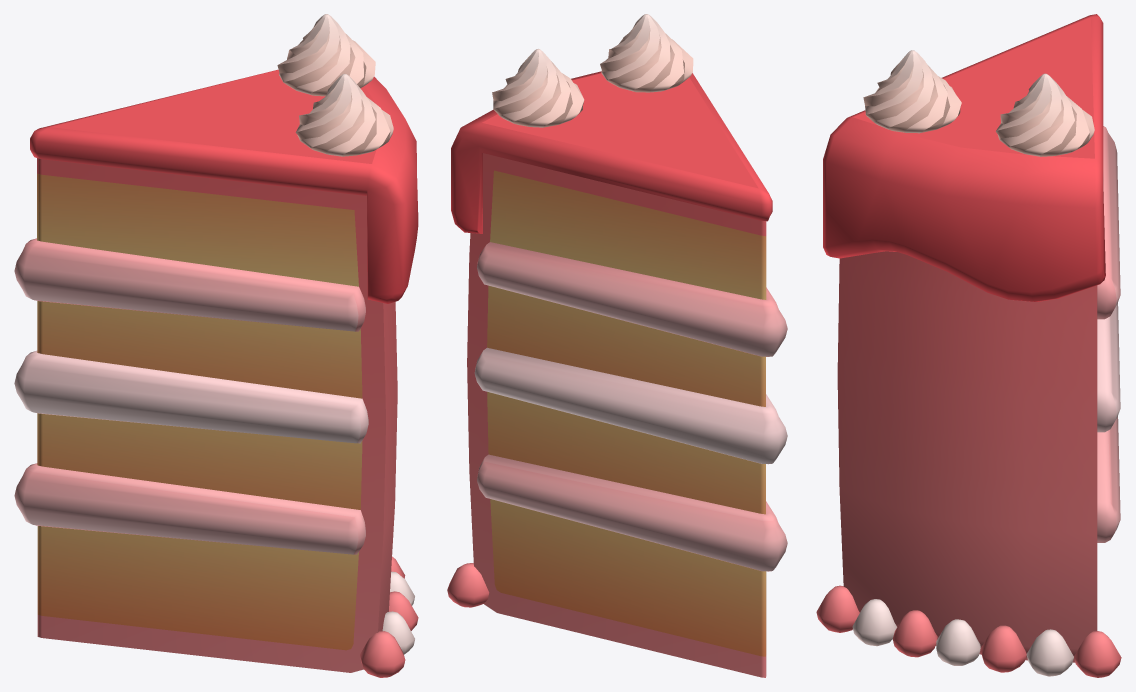
File: Cake_Strawberry_Slice_V2_01.fbx
3 renders of one model, left to right at view 1: azimuth 30°, elevation 25°; view 2: azimuth 150°, elevation 25°; view 3: azimuth 270°, elevation 25°, orthographic. The views are drawn at different scales.
Visible parts, largest first — view 1: Cake_Strawberry_Slice_V2_01; view 2: Cake_Strawberry_Slice_V2_01; view 3: Cake_Strawberry_Slice_V2_01.
Boxes of the visible parts, x1,y1,x2,y2 form: Cake_Strawberry_Slice_V2_01: (14,14,418,677); Cake_Strawberry_Slice_V2_01: (447,14,787,677); Cake_Strawberry_Slice_V2_01: (816,14,1121,677).
Size of the model in its own units: 34.39 by 54.17 by 25.84.
